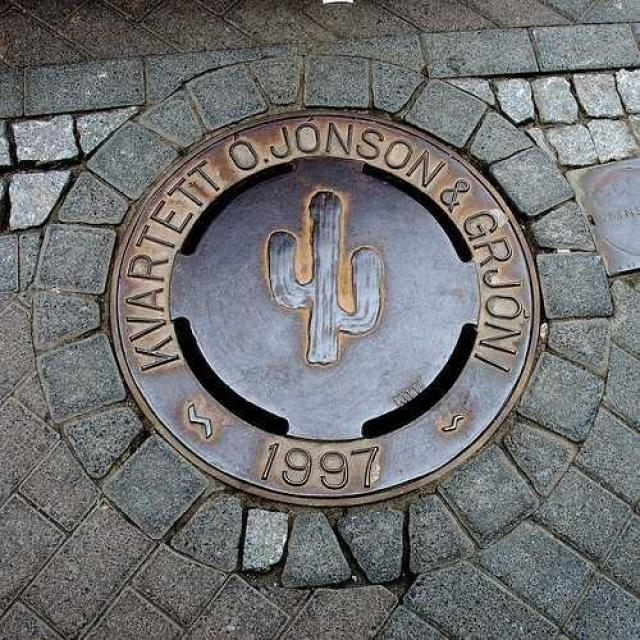manhole: (110, 113, 541, 506)
